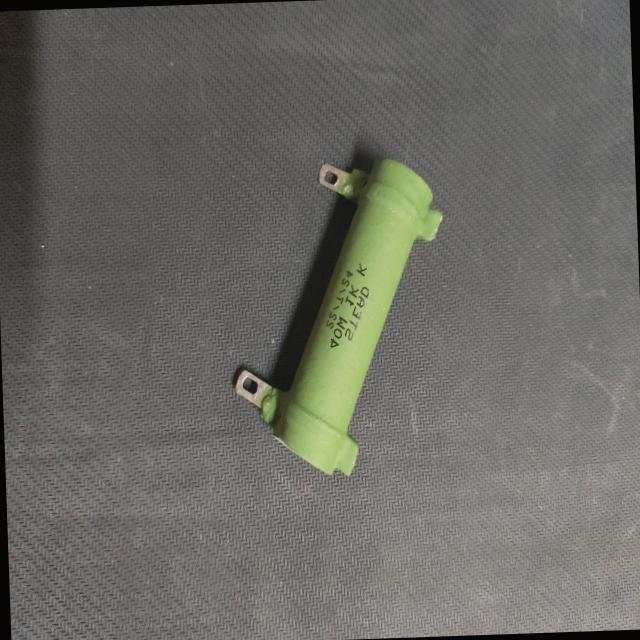resistor: (219, 140, 468, 488)
